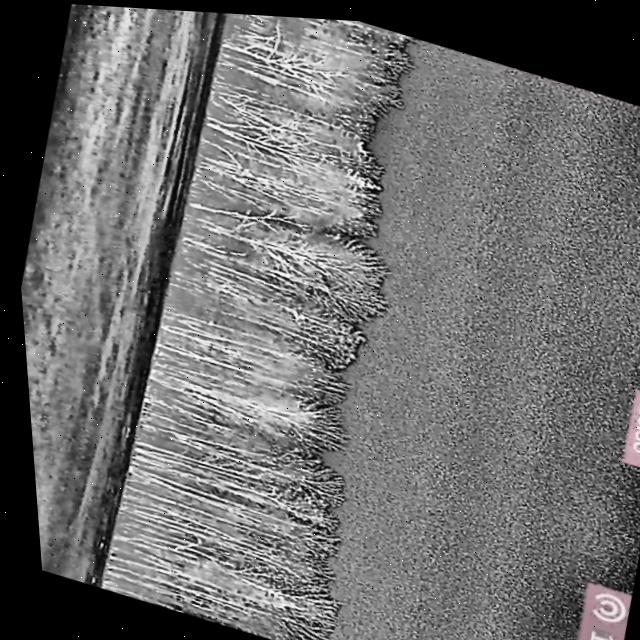drone: (280, 300, 305, 324)
